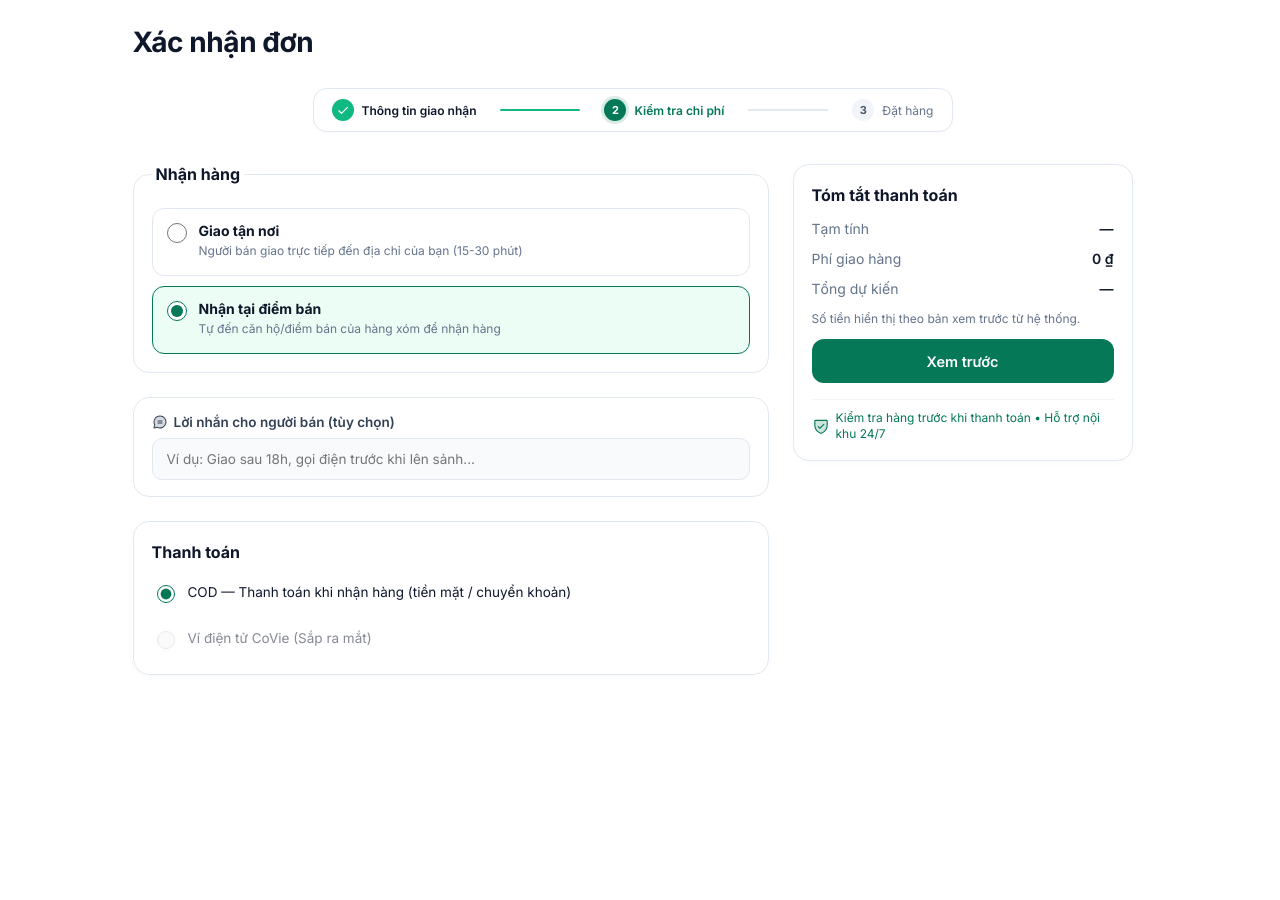
Test case: discards a late preview after changing fulfillment and requests a fresh one
Click the button "Xem trước" at (962, 361), box [812,339,1114,383]
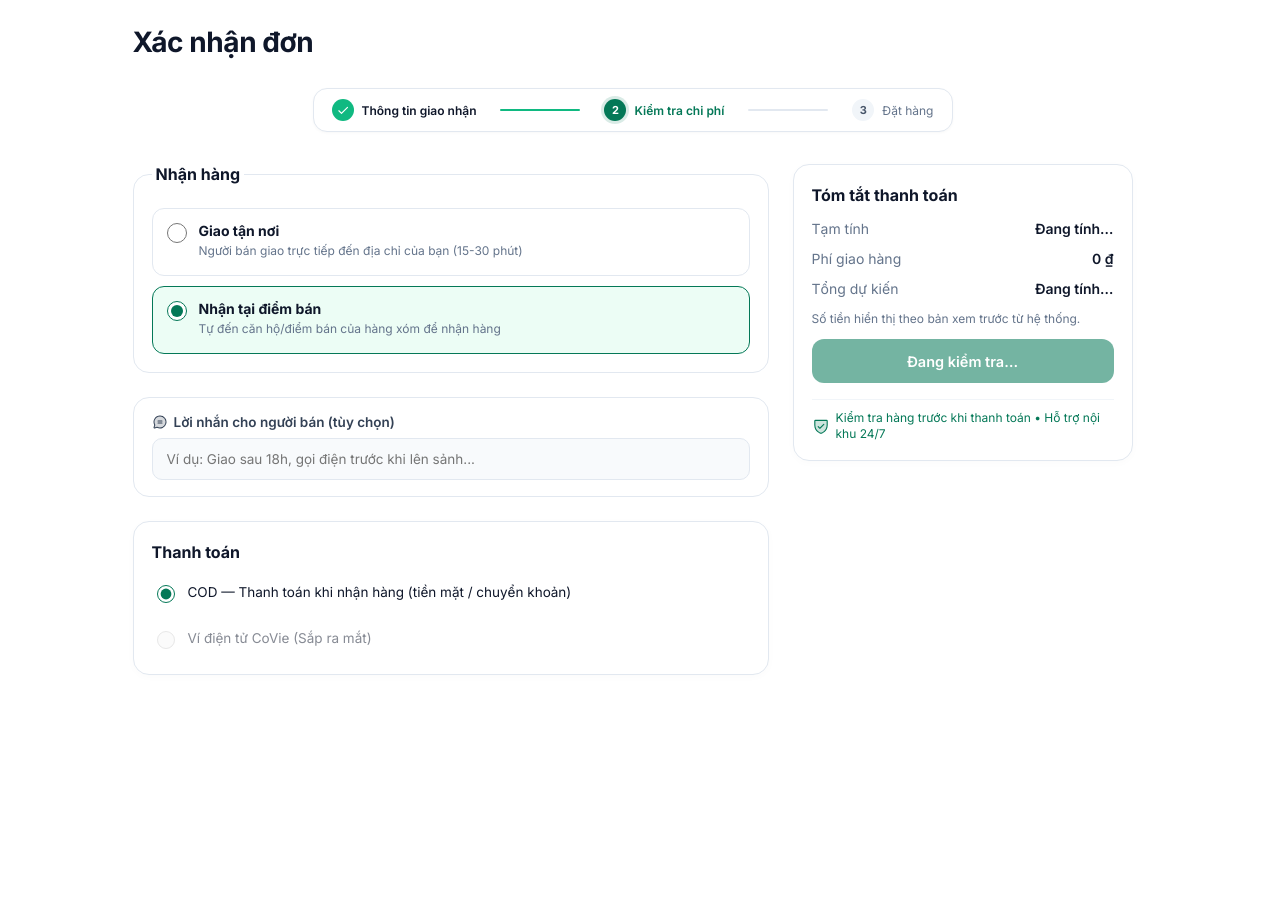
Click the radio button with aria-label "SELLER_DELIVERY" at (176, 233), box [166,223,186,243]
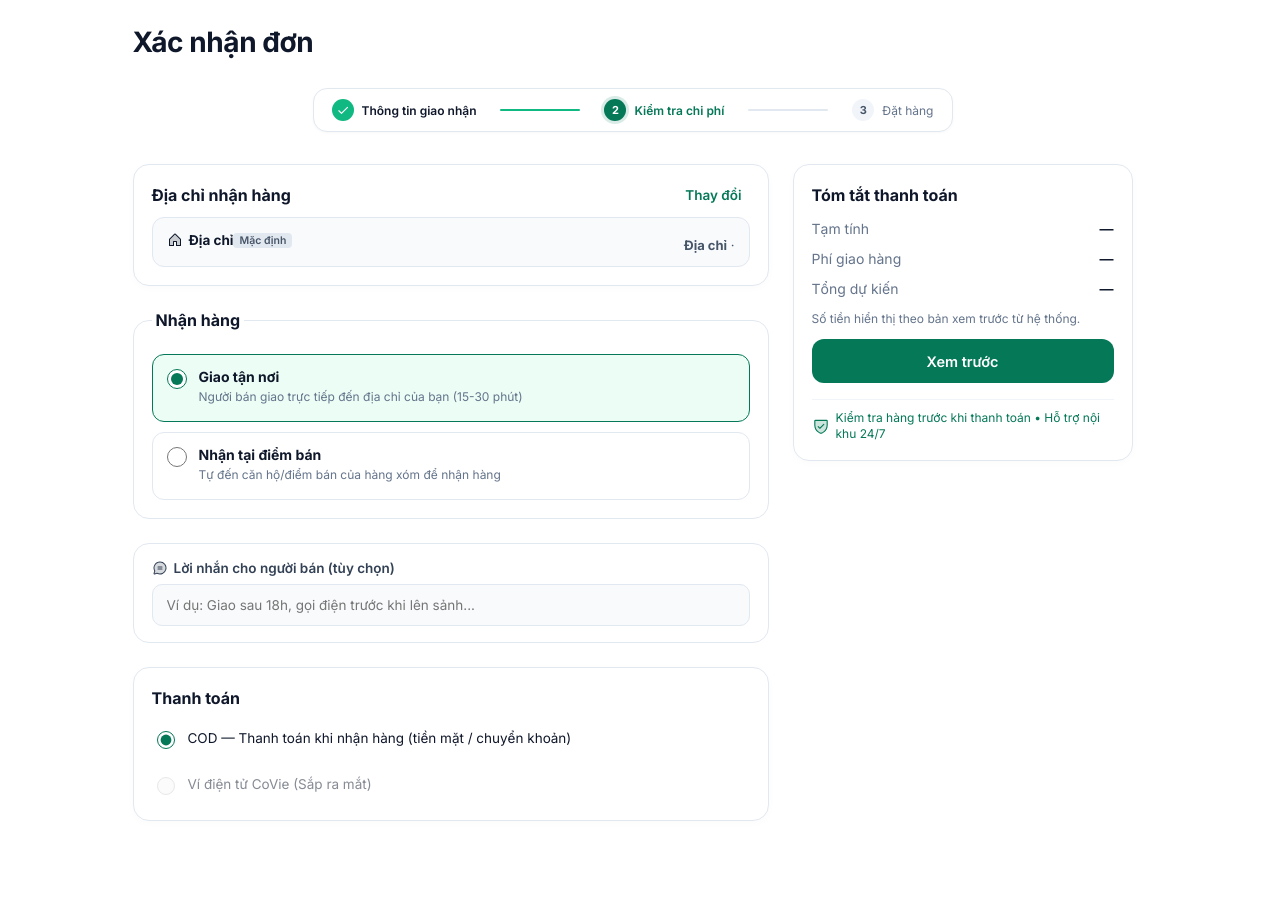
Now the button "Xem trước" is enabled, box [812,339,1114,383]
